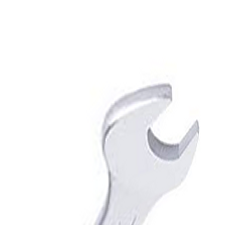Wrench: (77, 66, 205, 216)
